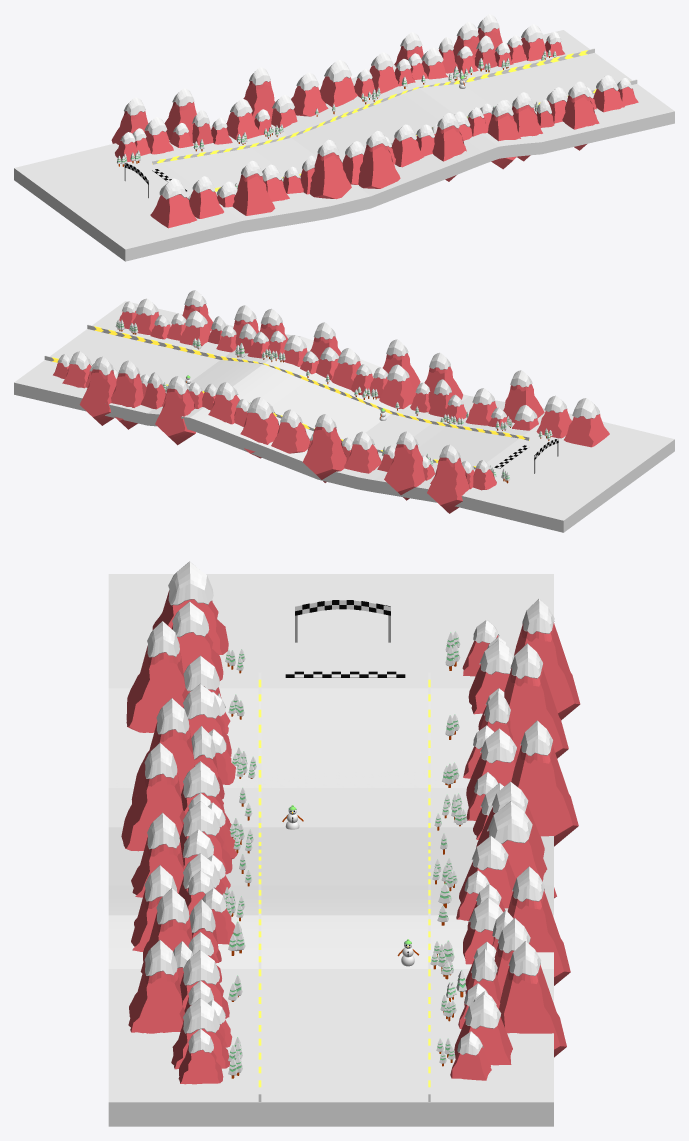
The model's file is sahne.fbx.
3 views of the same model, one above another, from view 1: azimuth 30°, elevation 25°; view 2: azimuth 150°, elevation 25°; view 3: azimuth 270°, elevation 25° (orthographic). The views are drawn at different scales.
Visible parts, largest first — view 1: Cube, Cube.061, Cube.082, Cube.085, Cube.087, Cube.093, Cube.029, Cube.077, Cube.027, Cube.123, Cube.117, Cube.121 (+14 smaller); view 2: Cube, Cube.095, Cube.117, Cube.115, Cube.113, Cube.059, Cube.057, Cube.093, Cube.055, Cube.123, Cube.121, Cube.087 (+17 smaller); view 3: Cube, Cube.117, Cube.057, Cube.087, Cube.113, Cube.085, Cube.029, Cube.115, Cube.059, Cube.095, Cube.077, Cube.082 (+39 smaller).
Part boxes in pixels (x1,y1,x2,y2): Cube: (14, 30, 674, 261); Cube.061: (152, 48, 594, 164); Cube.082: (310, 152, 351, 198); Cube.085: (358, 143, 400, 188); Cube.087: (232, 173, 275, 215); Cube.093: (150, 194, 196, 228); Cube.029: (562, 94, 599, 150); Cube.077: (432, 125, 466, 181); Cube.027: (487, 113, 520, 169); Cube.123: (319, 76, 357, 107); Cube.117: (243, 81, 274, 124); Cube.121: (291, 86, 328, 116); Cube: (14, 301, 674, 532); Cube.095: (87, 324, 529, 440); Cube.117: (302, 426, 346, 482); Cube.115: (427, 457, 469, 513); Cube.113: (384, 444, 425, 500); Cube.059: (155, 388, 195, 445); Cube.057: (79, 369, 116, 425); Cube.093: (564, 414, 609, 447); Cube.055: (111, 373, 143, 429); Cube.123: (240, 412, 279, 458); Cube.121: (271, 422, 310, 453); Cube.087: (503, 384, 544, 422); Cube: (108, 574, 553, 1126); Cube.117: (511, 744, 578, 846); Cube.057: (499, 965, 566, 1057); Cube.087: (126, 645, 188, 732); Cube.113: (504, 667, 568, 758); Cube.085: (121, 767, 185, 851); Cube.029: (128, 964, 184, 1033); Cube.115: (514, 622, 580, 720); Cube.059: (507, 890, 570, 985); Cube.095: (258, 672, 261, 1101); Cube.077: (131, 837, 184, 897); Cube.082: (131, 722, 195, 803).
Bounding box in the file's own units: 92233 × 11945 × 34295.
